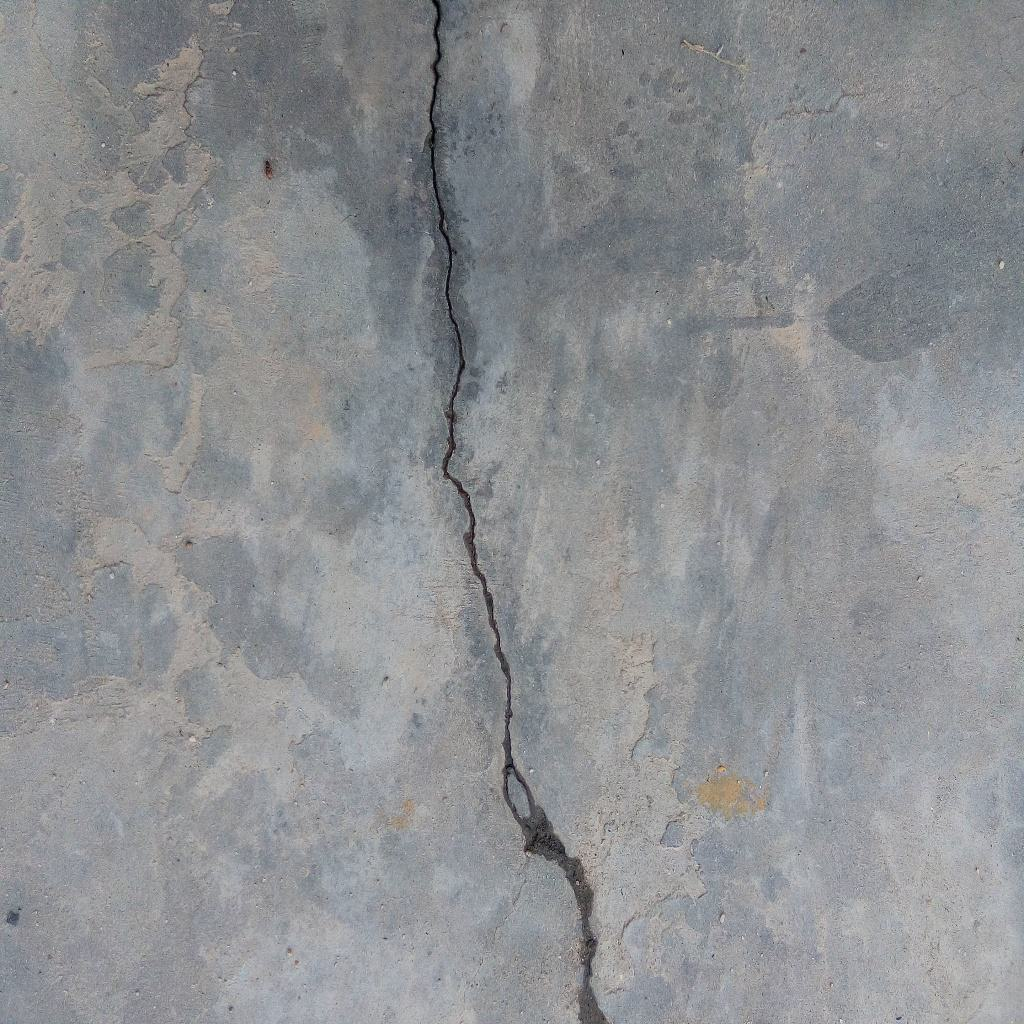Crack: (427, 1, 601, 1024)
